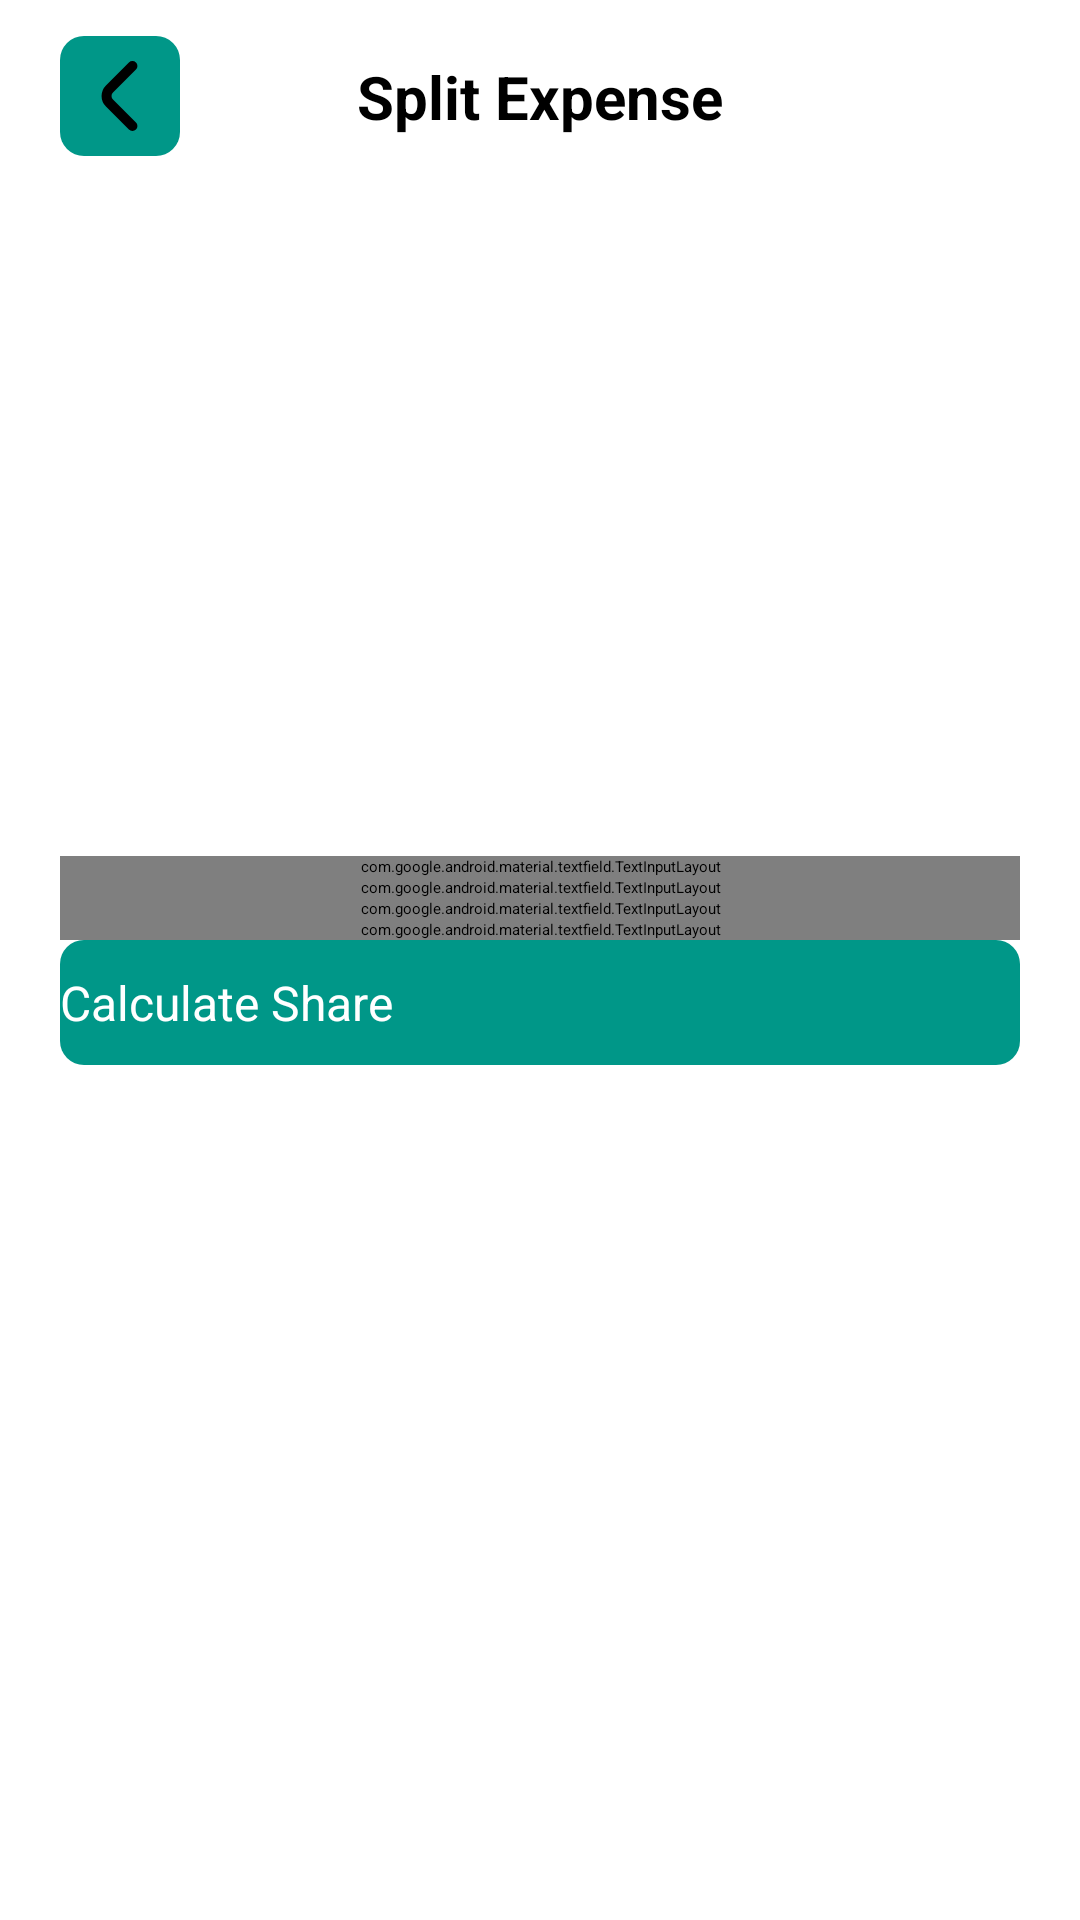

Locate icon controls on the screen. Image size 1080px×1920px, boxes as box(x1, y1, x2, y2).
Back Button: box(60, 36, 180, 156)
